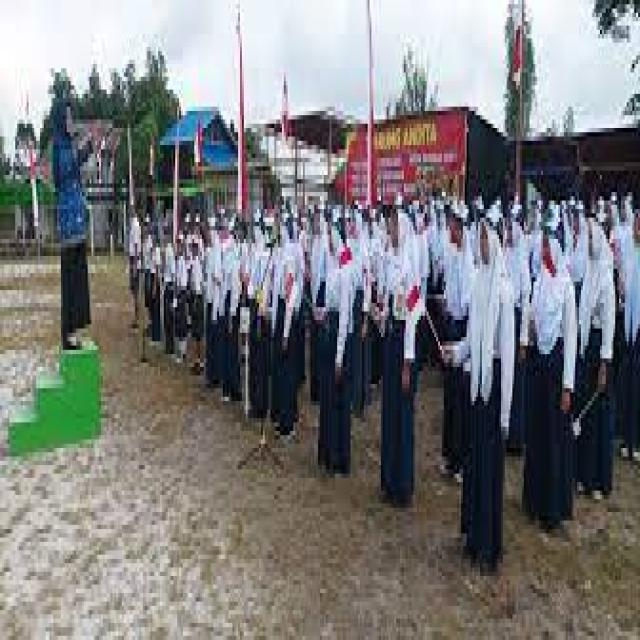peserta: (459, 214, 513, 608), (367, 182, 415, 511), (532, 226, 574, 546), (50, 92, 95, 363), (578, 204, 618, 498), (323, 181, 351, 495), (502, 190, 531, 474), (274, 198, 306, 454), (244, 213, 272, 453), (442, 184, 463, 499), (619, 188, 640, 486), (215, 210, 242, 405), (198, 207, 222, 402), (163, 235, 178, 357), (188, 218, 200, 363), (175, 230, 188, 362), (152, 228, 162, 347)
